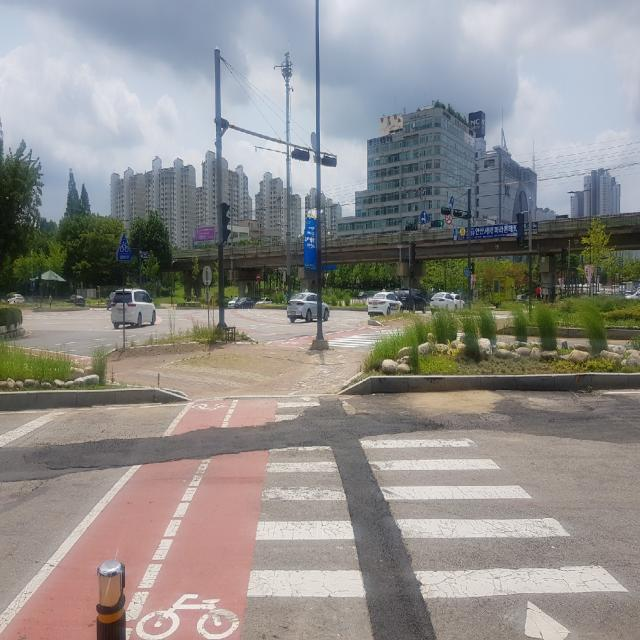횡단보도: (246, 396, 628, 640)
